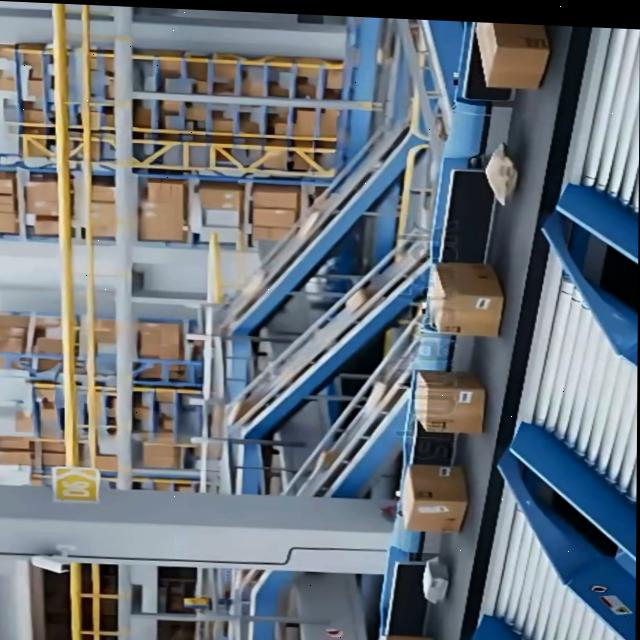product 1: (425, 260, 505, 337), (400, 462, 468, 533), (412, 369, 486, 434)
product 2: (420, 555, 451, 587)
